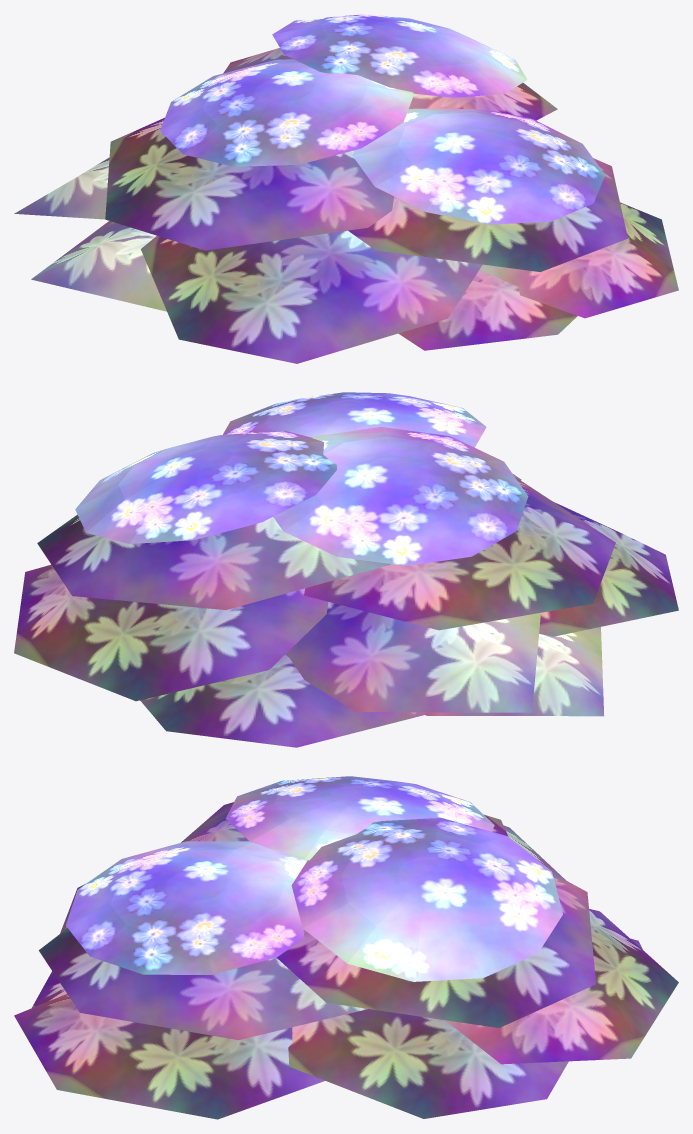
Rendered from geranium_small_SM.fbx.
The picture shows the model from 3 angles, top to bottom: view 1: azimuth 30°, elevation 25°; view 2: azimuth 150°, elevation 25°; view 3: azimuth 270°, elevation 25°; orthographic projection. The views are drawn at different scales.
Visible parts, largest first — view 1: geranium_small_SM_LOD0; view 2: geranium_small_SM_LOD0; view 3: geranium_small_SM_LOD0.
Part boxes in pixels (left/top/right/bottom): geranium_small_SM_LOD0: left=14, top=14, right=678, bottom=363; geranium_small_SM_LOD0: left=14, top=392, right=678, bottom=747; geranium_small_SM_LOD0: left=14, top=776, right=678, bottom=1119.
Bounding box in the file's own units: 127 × 129 × 37.14.
Materials: 2 (2 with a texture image).
